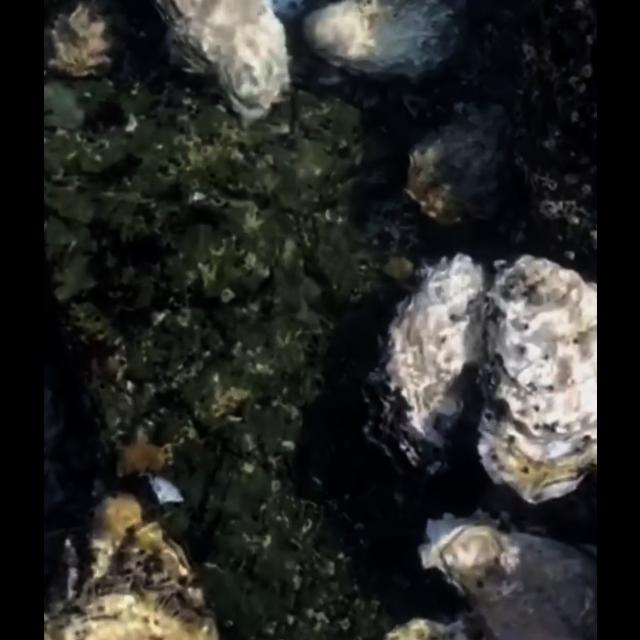Oyster-Closed: (474, 256, 596, 510), (44, 492, 220, 640), (415, 512, 597, 640), (150, 0, 290, 128), (401, 104, 513, 230), (300, 1, 460, 88), (44, 1, 130, 88)
Oyster-Open: (359, 255, 489, 489)
